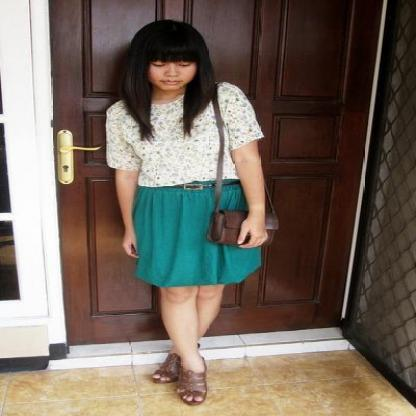bag: (204, 120, 278, 250)
shirt: (106, 82, 261, 186)
shoe: (152, 358, 208, 406)
skirt: (133, 179, 260, 286)
